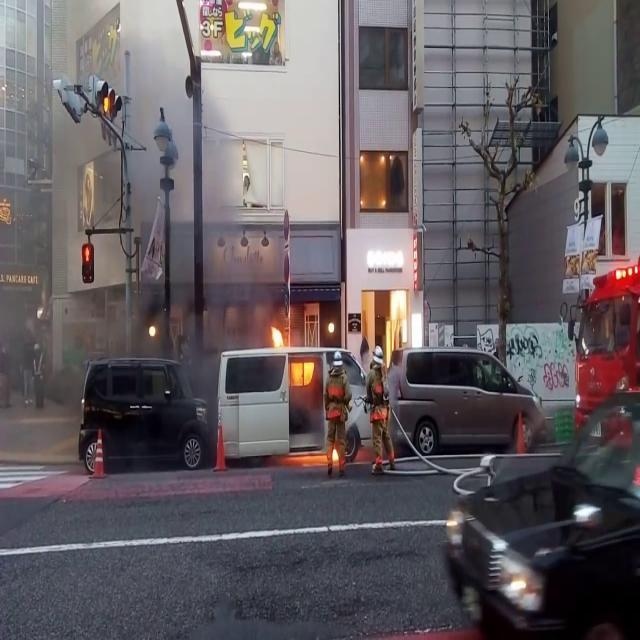Fire: (268, 322, 318, 388)
Smoke: (101, 48, 280, 374)
